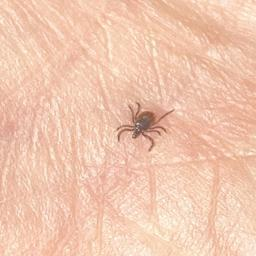Ixodes scapularis: (117, 102, 174, 152)
